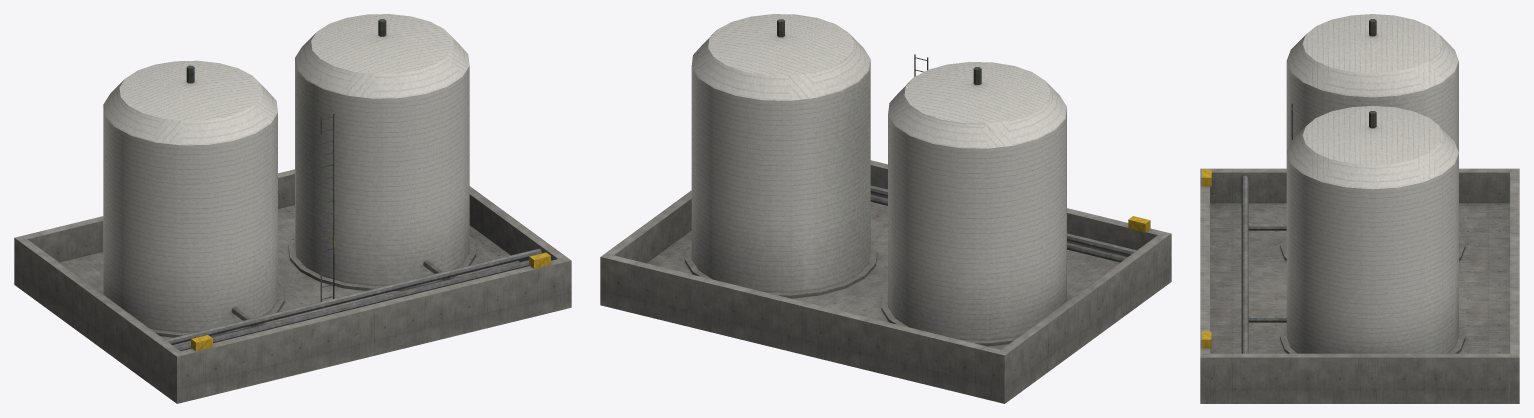
Rendered from fuel_tanks.glb.
3 renders of one model, left to right at view 1: azimuth 30°, elevation 25°; view 2: azimuth 150°, elevation 25°; view 3: azimuth 270°, elevation 25°, orthographic. The views are drawn at different scales.
Visible parts, largest first — view 1: fuel_tanks; view 2: fuel_tanks; view 3: fuel_tanks.
Part boxes in pixels (left/top/right/bottom): fuel_tanks: left=14, top=14, right=571, bottom=403; fuel_tanks: left=600, top=14, right=1171, bottom=403; fuel_tanks: left=1200, top=14, right=1519, bottom=403.
Size of the model in its own units: 14 by 8.4 by 10.
Materials: 1 (1 with a texture image).
